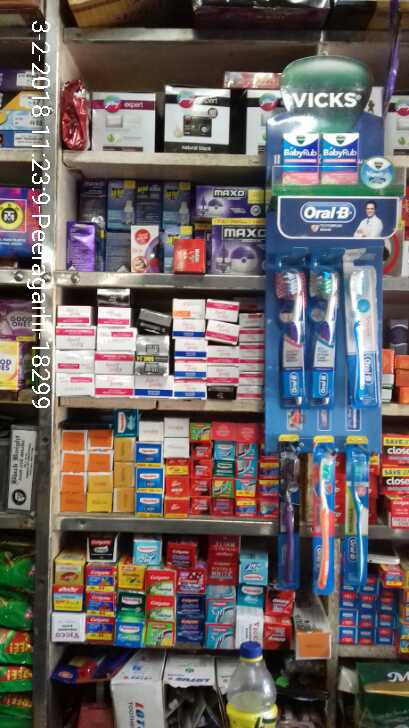oralb: (273, 262, 309, 410), (345, 266, 381, 406), (310, 433, 336, 592), (311, 263, 338, 407), (278, 435, 302, 589), (344, 435, 367, 585)
